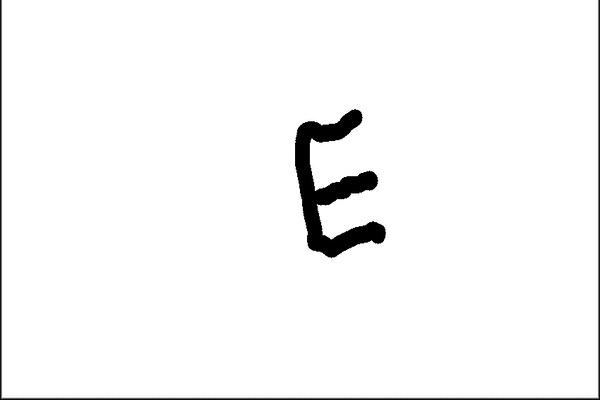E: (287, 107, 395, 262)
